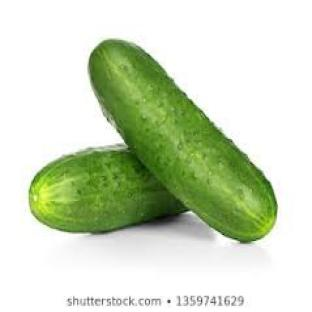Cucumber: (89, 40, 276, 242), (29, 145, 186, 232)
